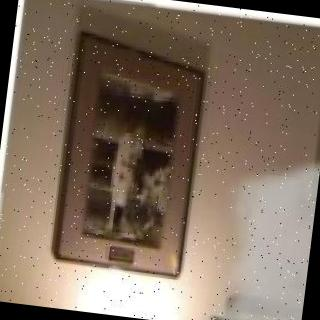smoke: (201, 135, 320, 320)
